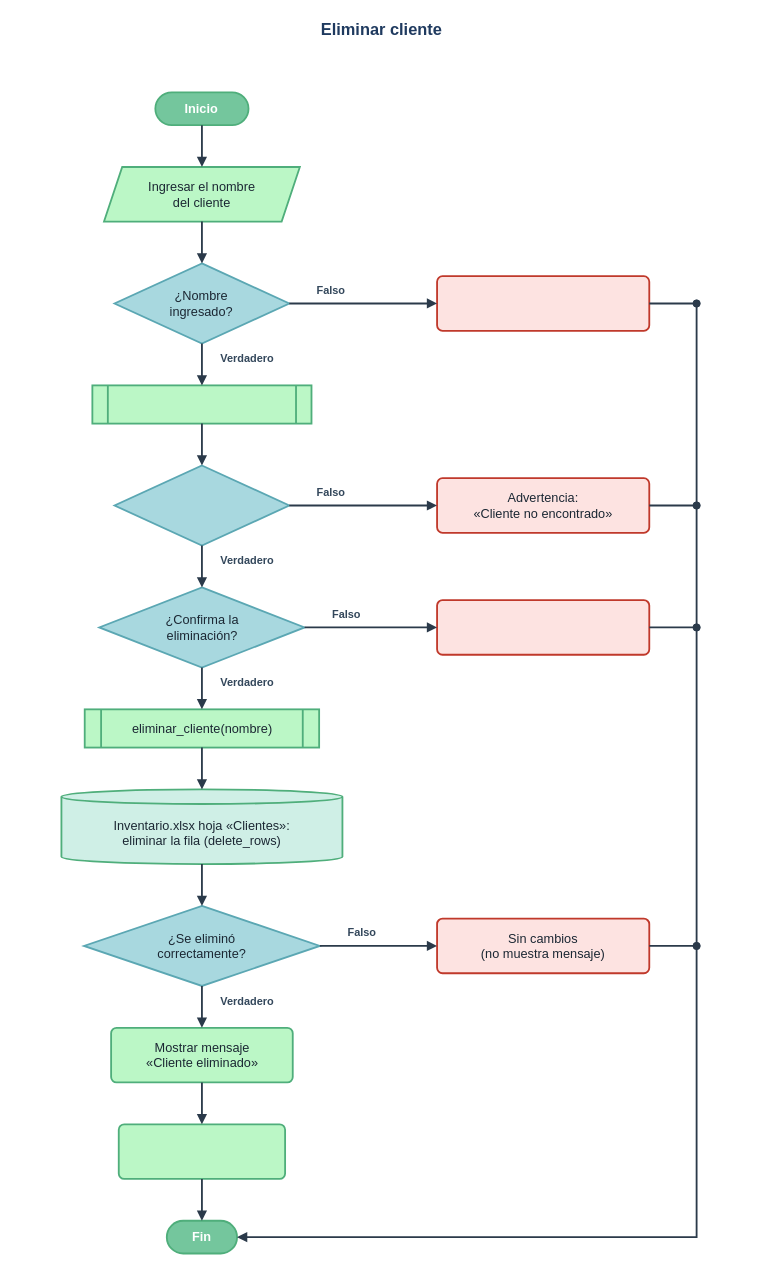
The diagram is 757 pixels wide and 1269 high, and some of its shapes have lost their labels. The box of each missing label's shape, as (x1, y1, x2, y2) in pixels:
Advertencia: «Ingrese el nombre»: (436, 275, 650, 331)
buscar_cliente(nombre): (91, 384, 312, 424)
Cancelar: no se elimina nada: (436, 599, 650, 655)
limpiar() y cargar_clientes(): (117, 1123, 286, 1179)
¿Existe el cliente?: (113, 464, 290, 546)
